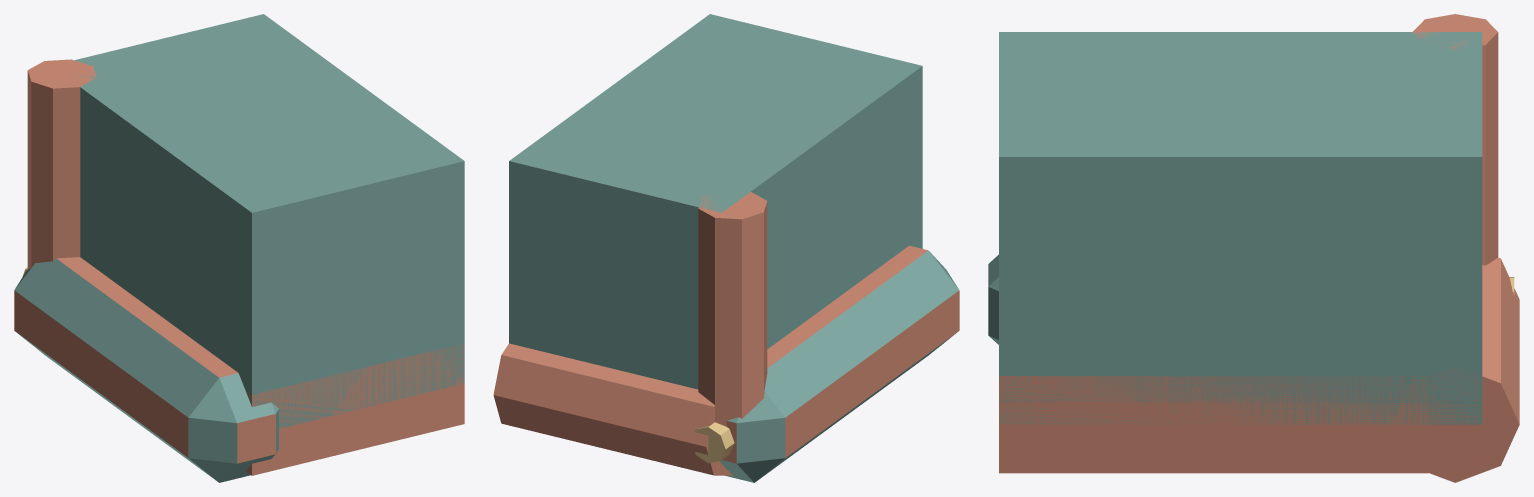
Rendered from TH_Tile_4.fbx.
3 views of the same model, side by side, from view 1: azimuth 30°, elevation 25°; view 2: azimuth 150°, elevation 25°; view 3: azimuth 270°, elevation 25° (orthographic). The views are drawn at different scales.
Visible parts, largest first — view 1: TH_Tile_4; view 2: TH_Tile_4; view 3: TH_Tile_4.
Boxes of the visible parts, x1,y1,x2,y2 form: TH_Tile_4: [14, 14, 464, 482]; TH_Tile_4: [493, 14, 959, 482]; TH_Tile_4: [988, 14, 1519, 482].
Bounding box in the file's own units: 0.68 × 0.68 × 0.99.
